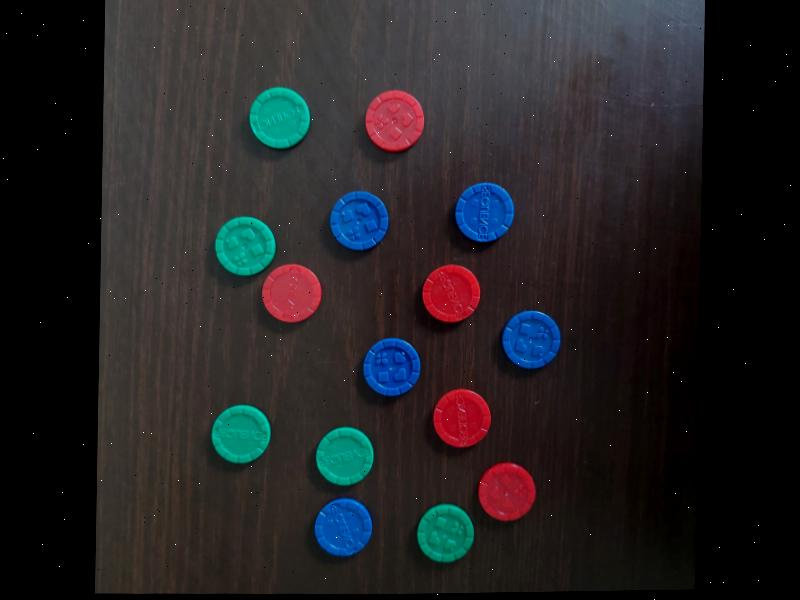Green_Token: (239, 81, 331, 174), (314, 175, 400, 265), (192, 390, 278, 479), (210, 207, 299, 282), (305, 415, 384, 487), (408, 494, 482, 568)
Red_Token: (343, 71, 449, 158), (474, 454, 550, 530), (416, 254, 489, 328), (414, 385, 496, 449), (257, 263, 327, 331)
